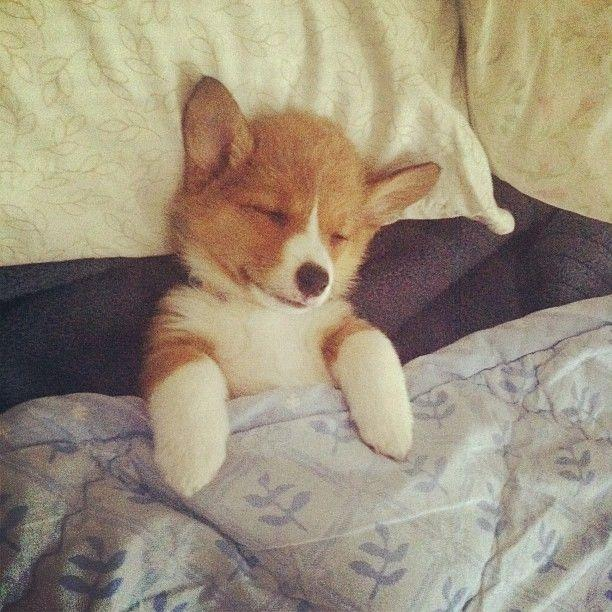puppy-dog: (141, 72, 444, 498)
